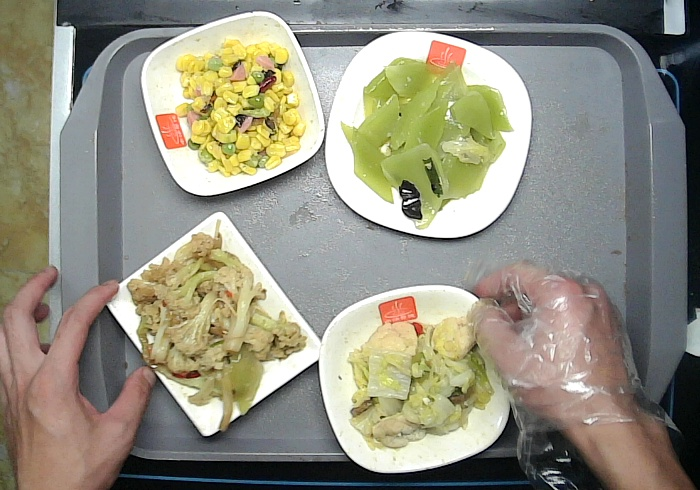SHKJ-Bai_Se_Cai_Die: (318, 284, 514, 473)
SHKJ-Bai_Se_Si_Fang_Cai_Die: (325, 30, 536, 240)
SHKJ-Bai_Se_Xiao_Fang_Die: (139, 11, 319, 199)
SHKJ-Si_Fang_Min: (105, 211, 326, 438)
